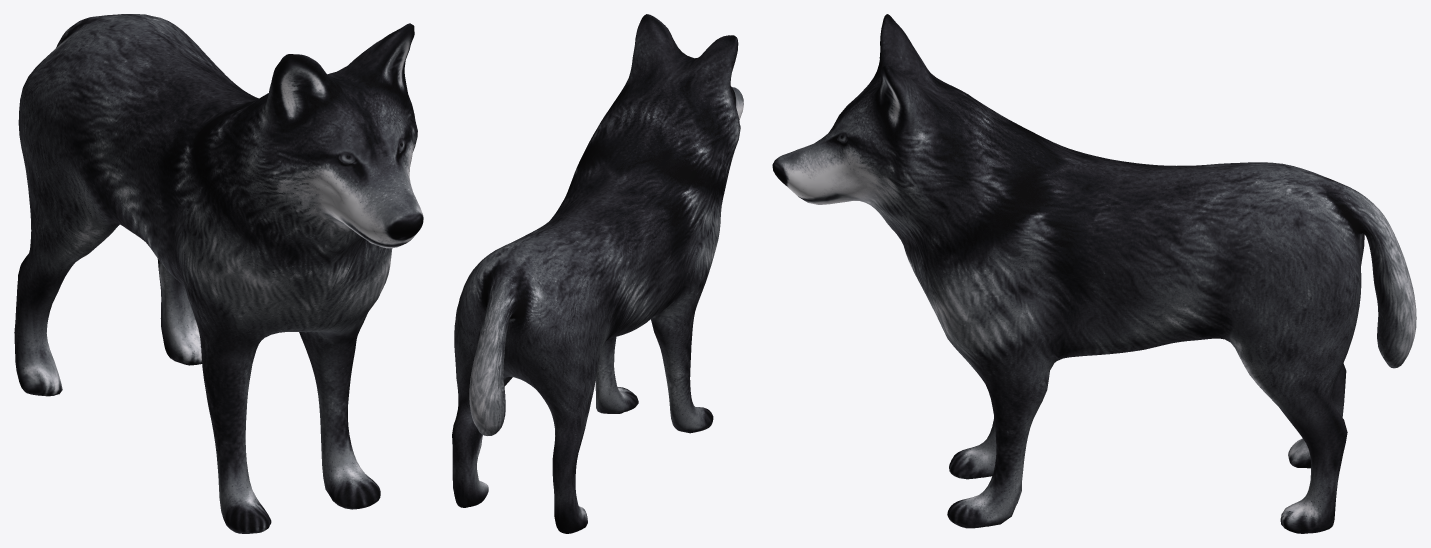
File: Wolf.gltf
The picture shows the model from 3 angles, left to right: view 1: azimuth 30°, elevation 25°; view 2: azimuth 150°, elevation 25°; view 3: azimuth 270°, elevation 25°; orthographic projection. The views are drawn at different scales.
Parts seen in each view (by area): view 1: Wolf_Quad; view 2: Wolf_Quad; view 3: Wolf_Quad.
Part boxes in pixels (bbox=[...]): Wolf_Quad: bbox=[14, 14, 423, 533]; Wolf_Quad: bbox=[452, 14, 743, 533]; Wolf_Quad: bbox=[772, 14, 1416, 533].
Size of the model in its own units: 0.4034 by 1.09 by 1.39.
1 material, 1 textured.
